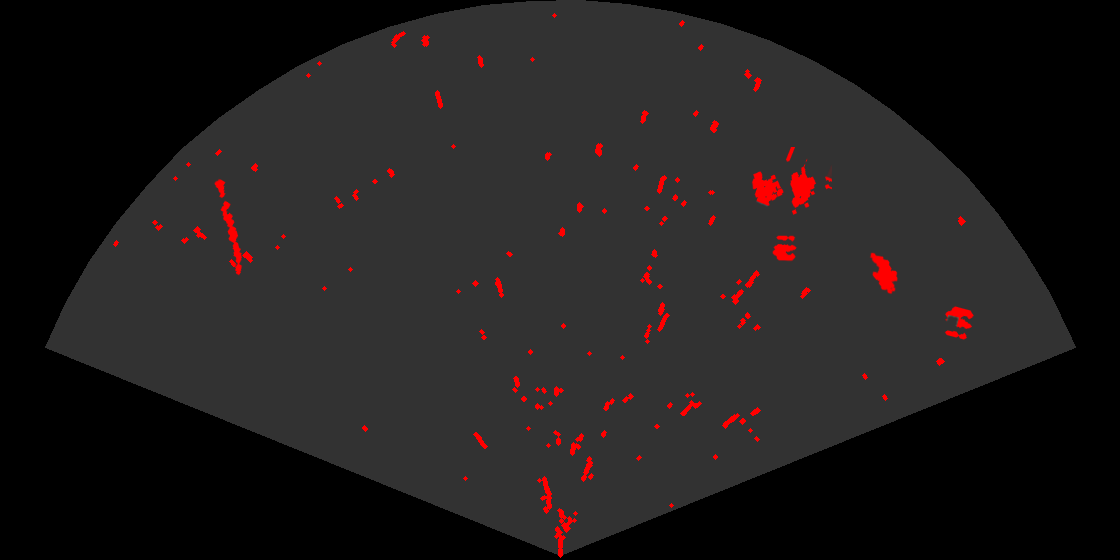AUV: (868, 251, 899, 296)
ball: (943, 305, 975, 341), (771, 234, 798, 263)
cage: (750, 147, 832, 216)
chain: (213, 177, 244, 277)
